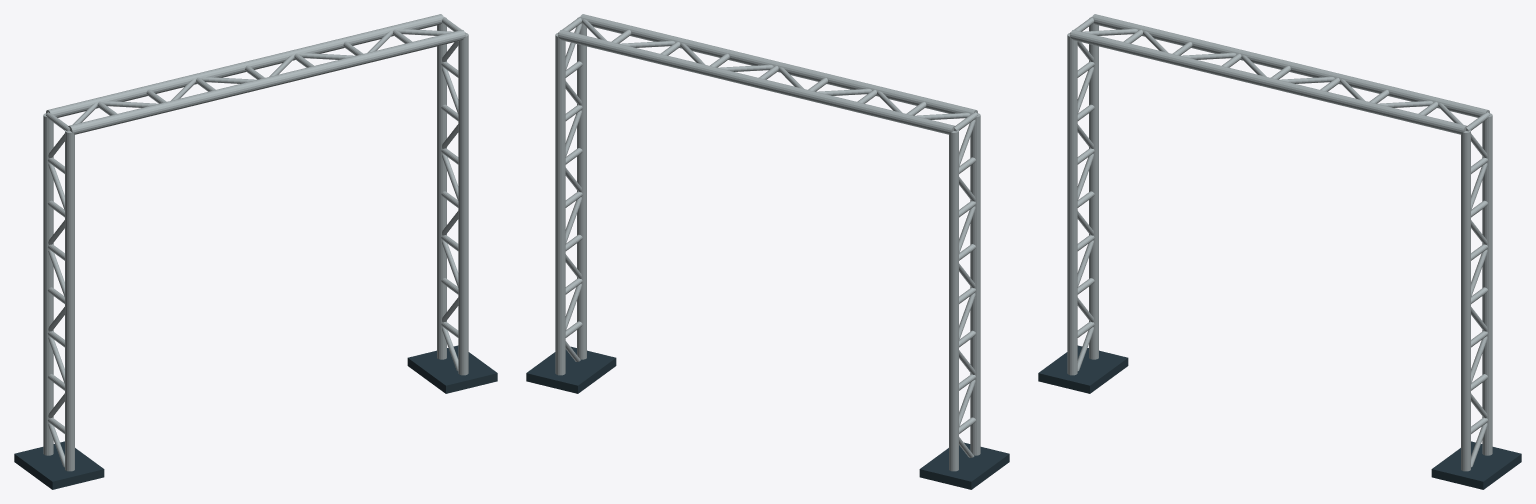
File: scendance-plan-truss-arch.glb
3 renders of one model, left to right at view 1: azimuth 30°, elevation 25°; view 2: azimuth 150°, elevation 25°; view 3: azimuth 330°, elevation 25°, orthographic.
Bounding box in the file's own units: 4.3 × 3.27 × 0.64.
